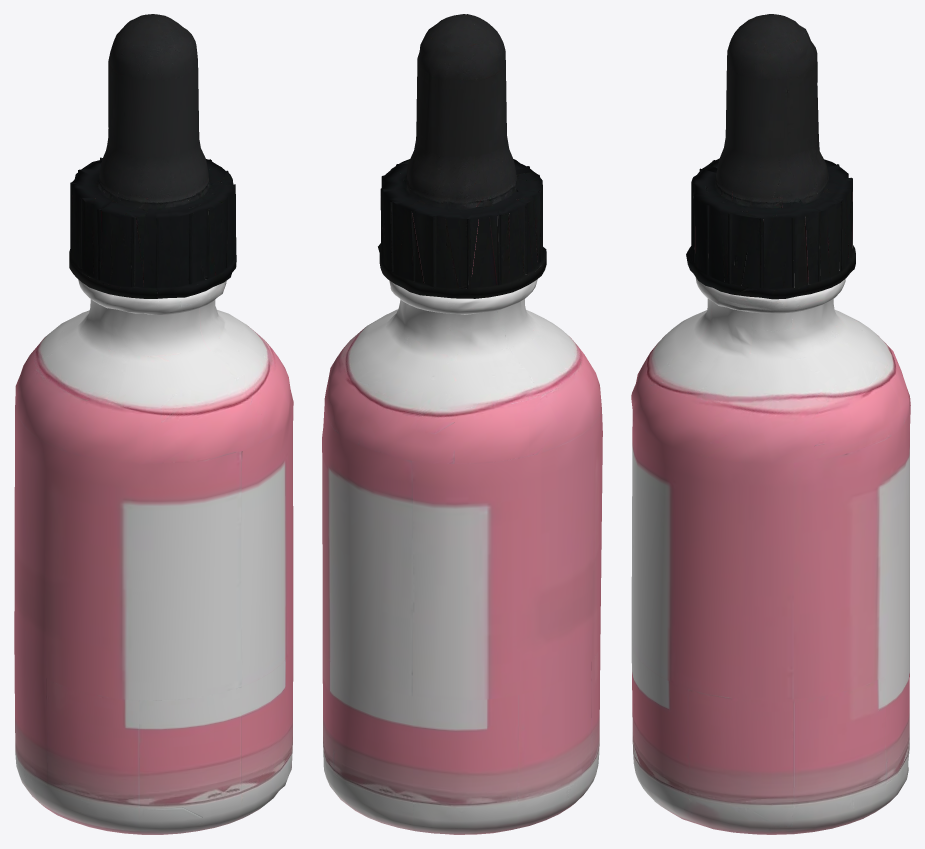
The model's file is dropper-bottle.glb.
3 renders of one model, left to right at view 1: azimuth 30°, elevation 25°; view 2: azimuth 150°, elevation 25°; view 3: azimuth 270°, elevation 25°, orthographic.
Size of the model in its own units: 0.313 by 0.9517 by 0.3135.
Materials: 1 (1 with a texture image).
